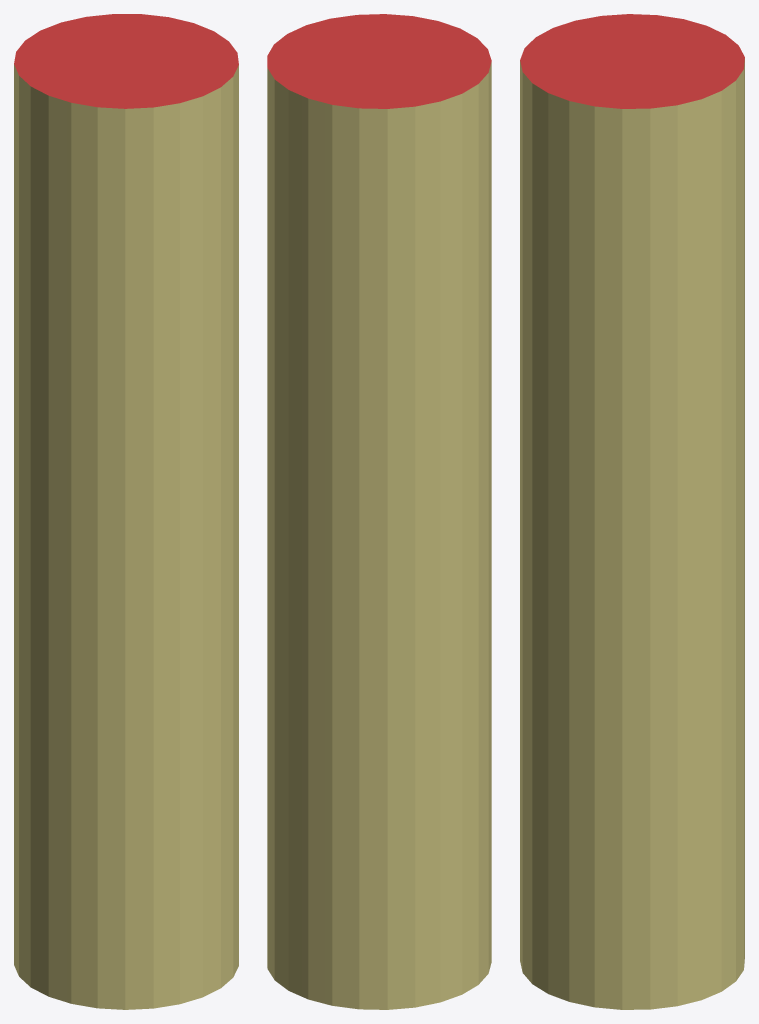
3 views of the same model, side by side, from view 1: azimuth 30°, elevation 25°; view 2: azimuth 150°, elevation 25°; view 3: azimuth 270°, elevation 25° (orthographic).
Bounding box in the file's own units: 2.14 × 2.14 × 9.48.
